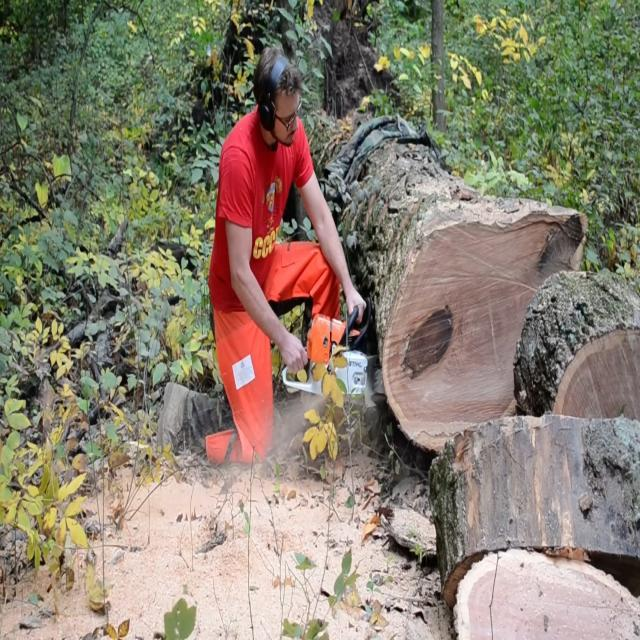Chainsaw: (273, 288, 397, 420)
